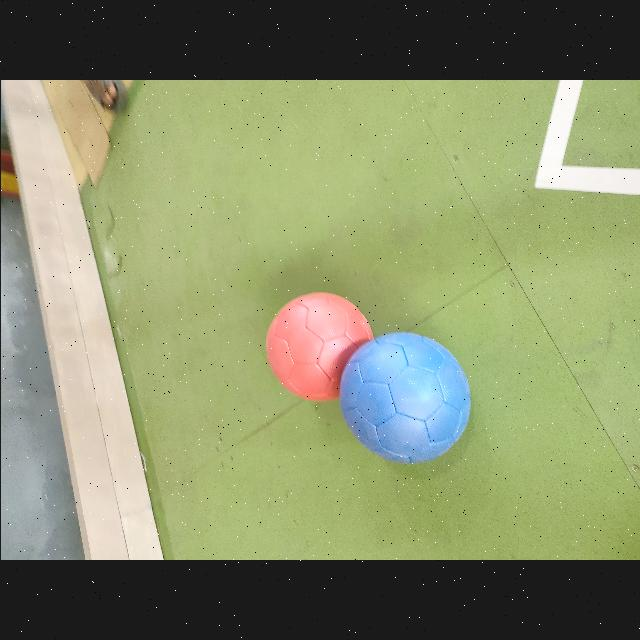B: (339, 333, 470, 463)
R: (265, 292, 372, 401)
